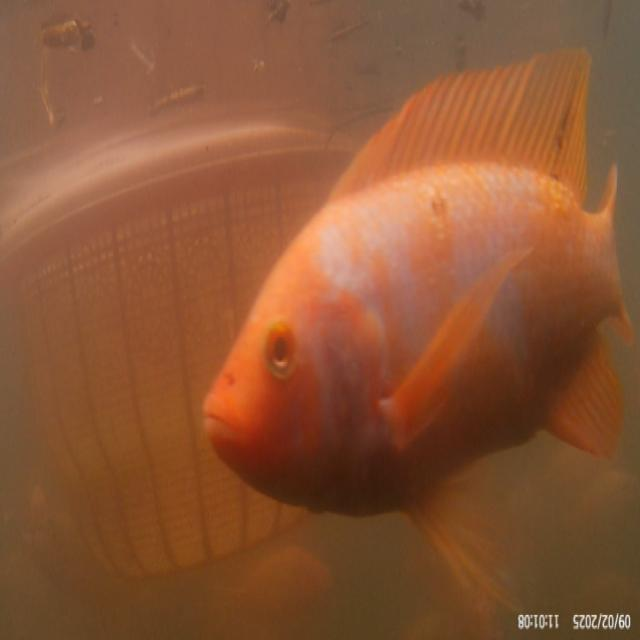ikan: (200, 47, 634, 611)
